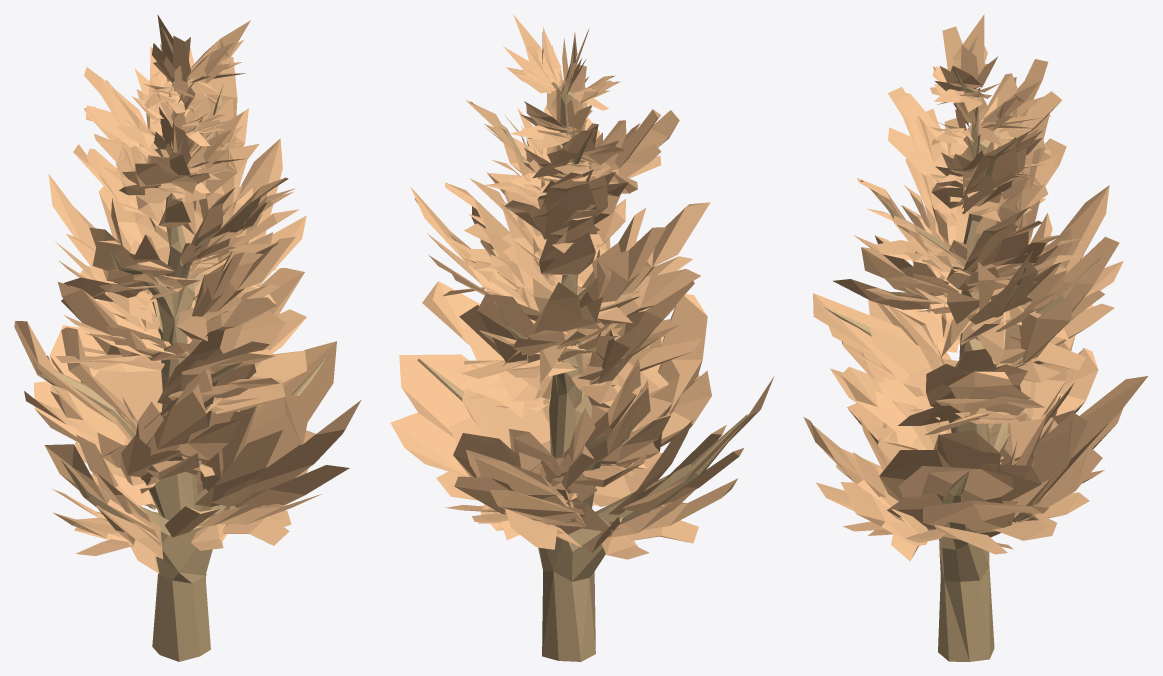
File: DriedtulipA-2.fbx
The picture shows the model from 3 angles, left to right: view 1: azimuth 30°, elevation 25°; view 2: azimuth 150°, elevation 25°; view 3: azimuth 270°, elevation 25°; orthographic projection.
Visible parts, largest first — view 1: leaves.003, trunk.003; view 2: leaves.003, trunk.003; view 3: leaves.003, trunk.003.
Part boxes in pixels (box(x1,y1,x2,y2)): leaves.003: box(14, 14, 361, 573); trunk.003: box(32, 27, 330, 661); leaves.003: box(390, 14, 774, 559); trunk.003: box(414, 41, 748, 661); leaves.003: box(803, 14, 1147, 561); trunk.003: box(824, 37, 1100, 661).
Size of the model in its own units: 432 by 817 by 405.
